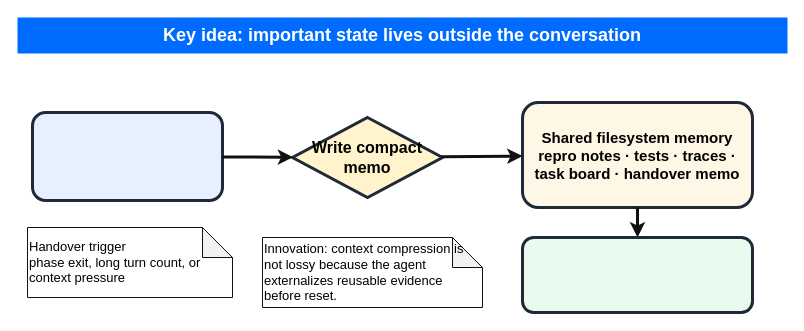
The diagram is 804 pixels wide and 331 high, and some of its shapes have lost their labels. The box of each missing label's shape, as (x1, y1, x2, y2) in pixels:
Fresh prompt for next phase reads durable artifacts, not raw history: (520, 236, 754, 314)
Long phase transcript plans · observations · tool outputs: (30, 110, 224, 202)
